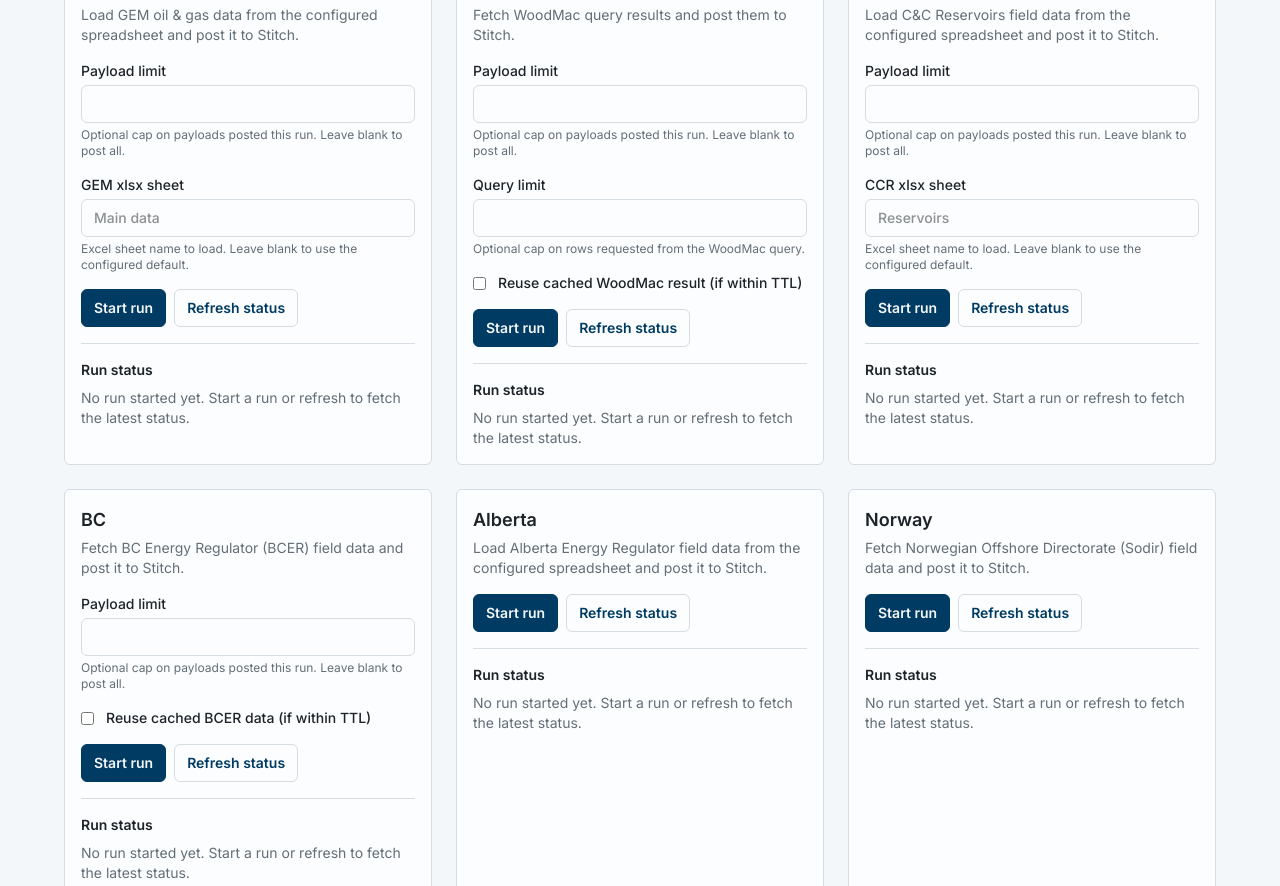
EtlPage › starts a BC run against the bc ETL endpoint
(page scrolled)
Click the button "Start run" below "Reuse cached BCER data (if within TTL)": (124, 763) [81, 744, 166, 782]
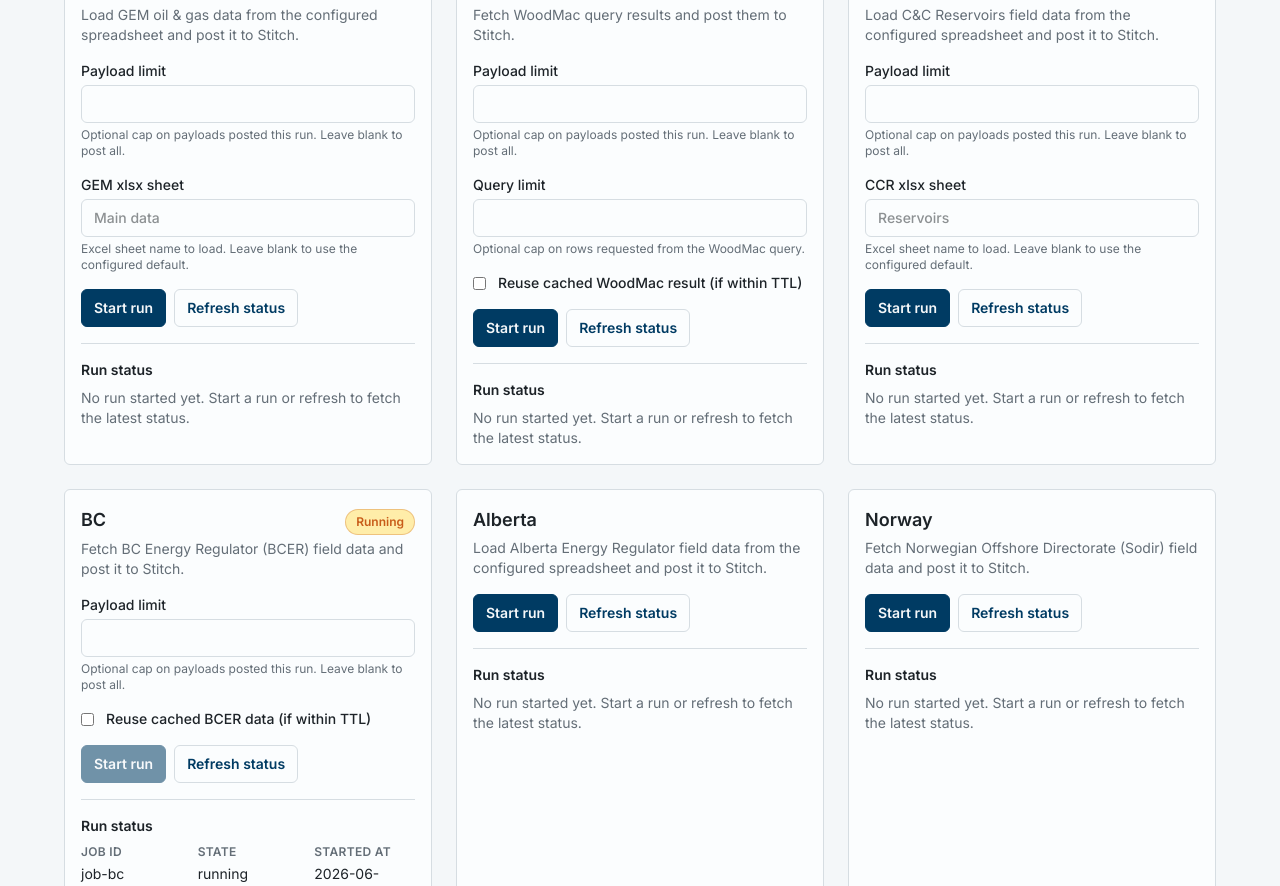
Check: the 1st text "running" is shown, box [345, 509, 415, 535]
